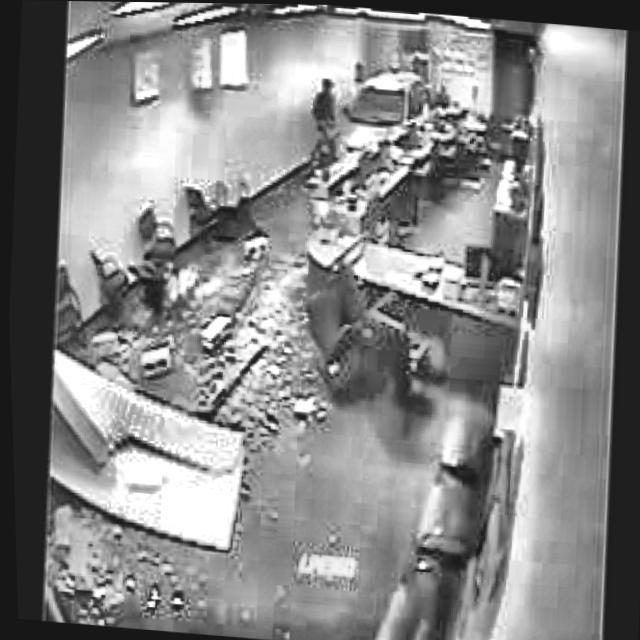Weapon: (304, 63, 351, 188)
